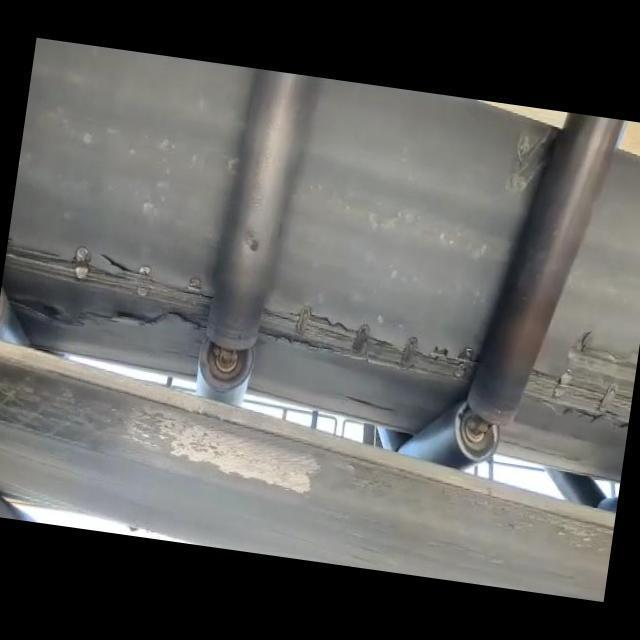Tear: (3, 241, 215, 331), (260, 302, 476, 390), (520, 314, 637, 434), (98, 246, 140, 276)
Wear: (505, 115, 559, 197)
